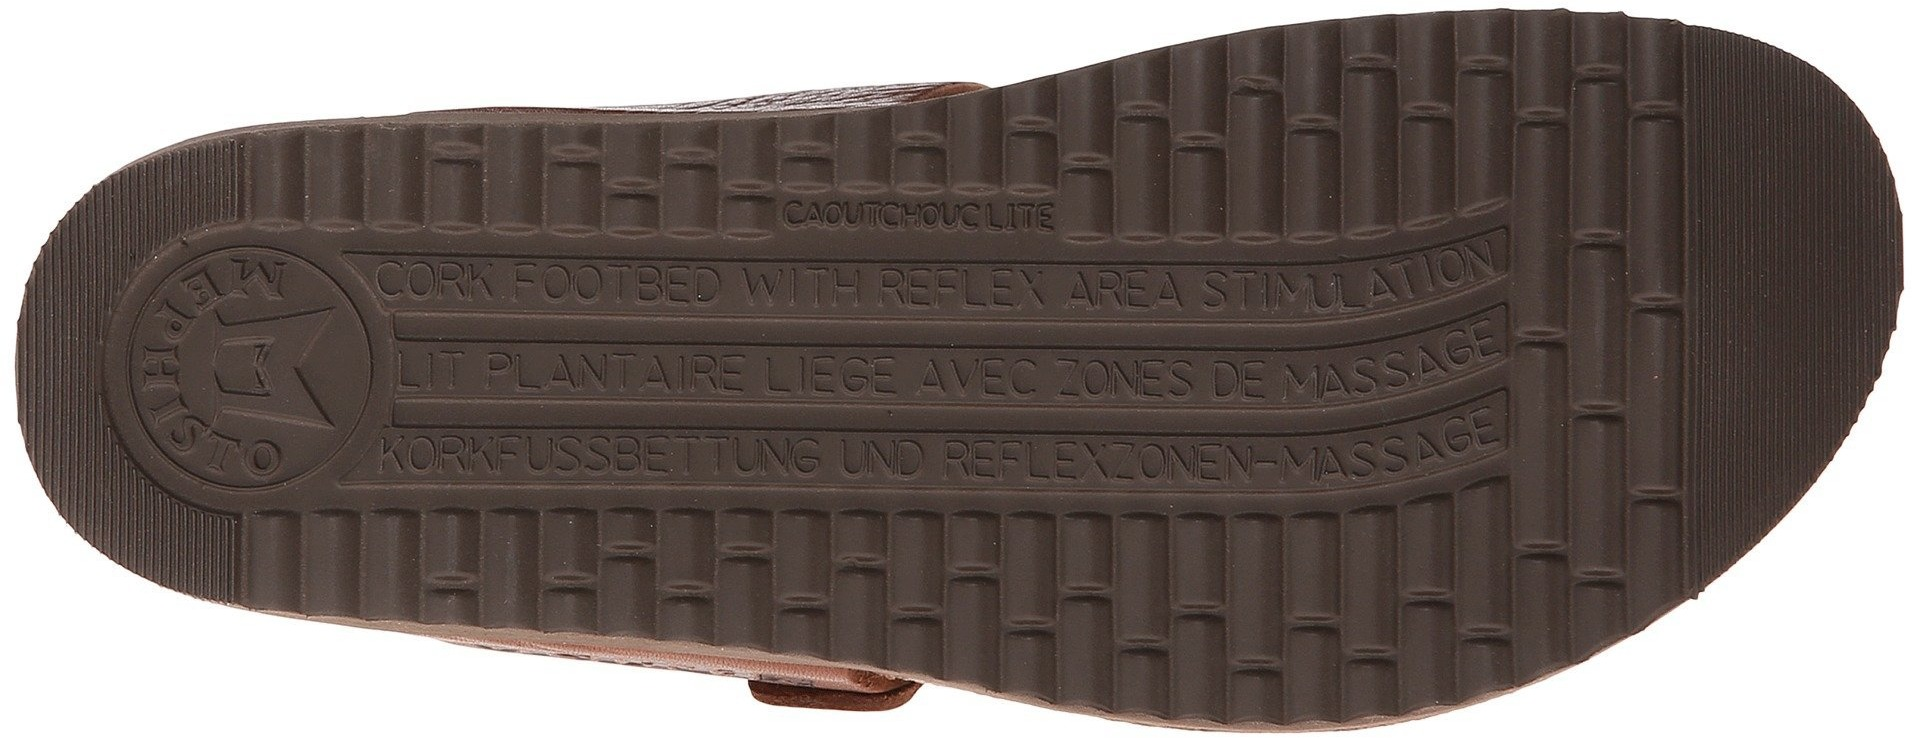other: (1690, 162, 1880, 348), (1697, 357, 1821, 484), (10, 334, 110, 442)
quad: (1145, 515, 1347, 714), (930, 503, 1130, 686), (1144, 49, 1332, 229), (1367, 23, 1547, 209), (1382, 490, 1546, 659), (652, 503, 794, 634), (433, 120, 579, 244)
text: (1008, 253, 1197, 411), (687, 253, 841, 412), (519, 254, 676, 407), (847, 253, 994, 416), (1207, 259, 1356, 403), (1354, 245, 1504, 387), (390, 248, 513, 394), (930, 421, 1019, 499), (1072, 427, 1154, 503), (151, 385, 226, 468), (700, 422, 782, 496), (802, 181, 880, 253), (489, 423, 561, 499), (804, 416, 880, 485), (387, 422, 460, 485), (613, 417, 672, 489), (133, 310, 193, 373), (230, 427, 293, 485)
